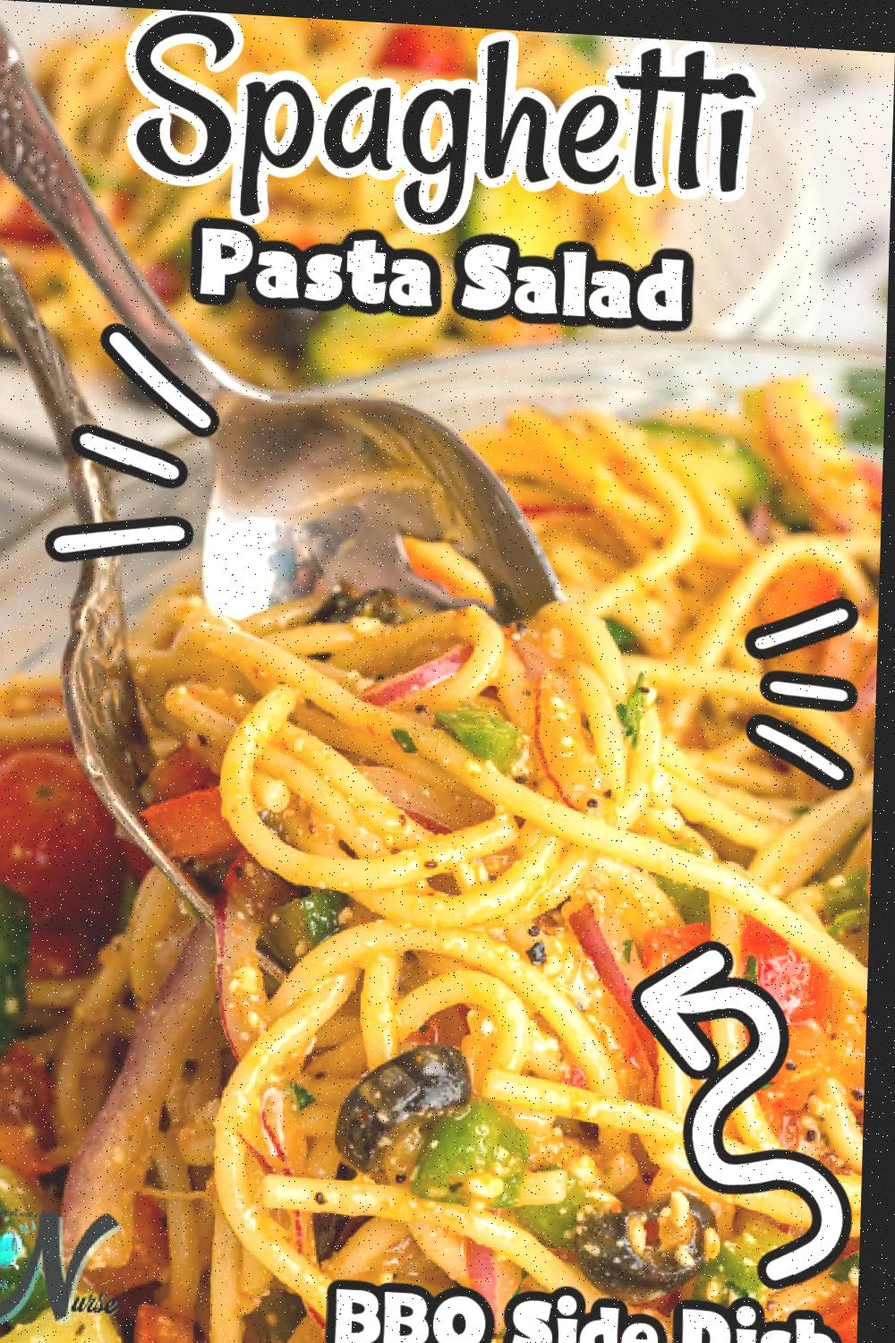pasta: (27, 381, 880, 1342), (38, 21, 558, 387)
